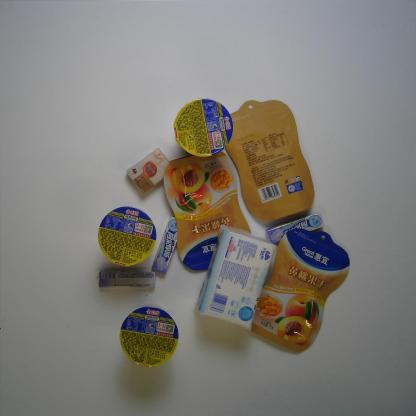Candy: (264, 212, 325, 245), (151, 216, 177, 274), (98, 271, 156, 288)
Dried Fruit: (251, 228, 350, 353), (224, 100, 315, 223), (163, 151, 253, 271)
Instant Noodles: (96, 206, 157, 267), (119, 306, 179, 367), (172, 98, 233, 157)
Tissue: (196, 224, 278, 332), (126, 147, 170, 194)
